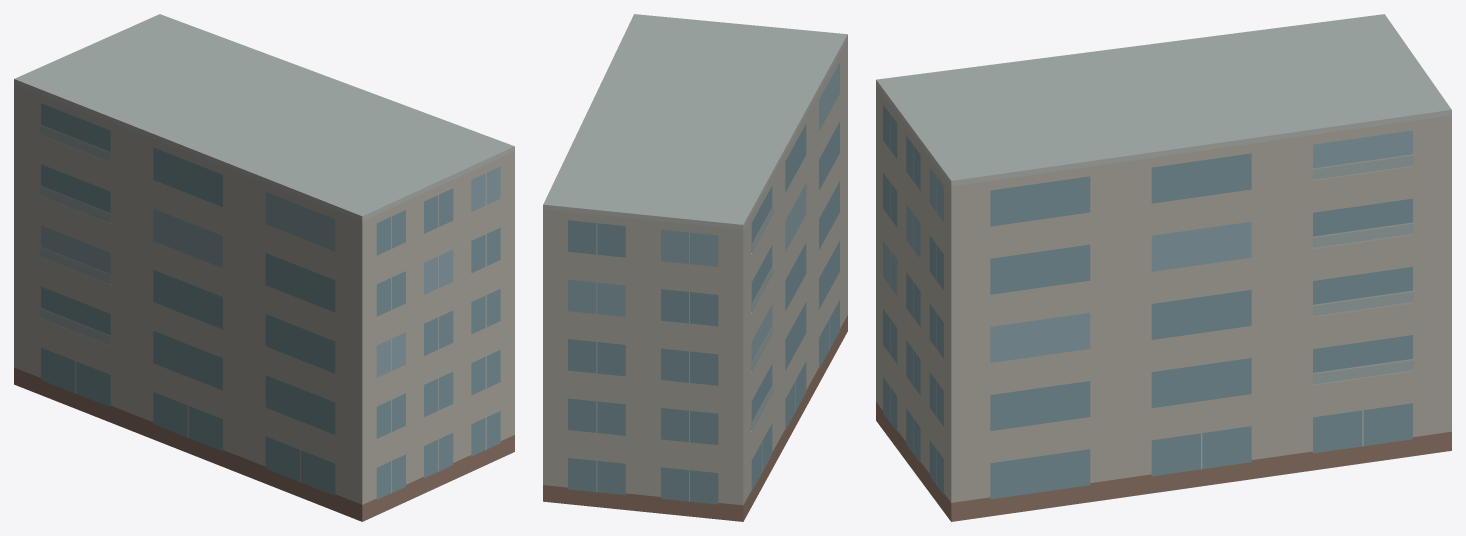
File: survey-upis-33045069.glb
The picture shows the model from 3 angles, left to right: view 1: azimuth 30°, elevation 25°; view 2: azimuth 150°, elevation 25°; view 3: azimuth 270°, elevation 25°; orthographic projection. The views are drawn at different scales.
Parts seen in each view (by area): view 1: survey-upis-33045069.tmp; view 2: survey-upis-33045069.tmp; view 3: survey-upis-33045069.tmp.
Boxes of the visible parts, x1,y1,x2,y2 form: survey-upis-33045069.tmp: [14, 14, 514, 521]; survey-upis-33045069.tmp: [543, 14, 847, 521]; survey-upis-33045069.tmp: [876, 14, 1451, 521].
Size of the model in its own units: 16.07 by 15.3 by 23.43.
